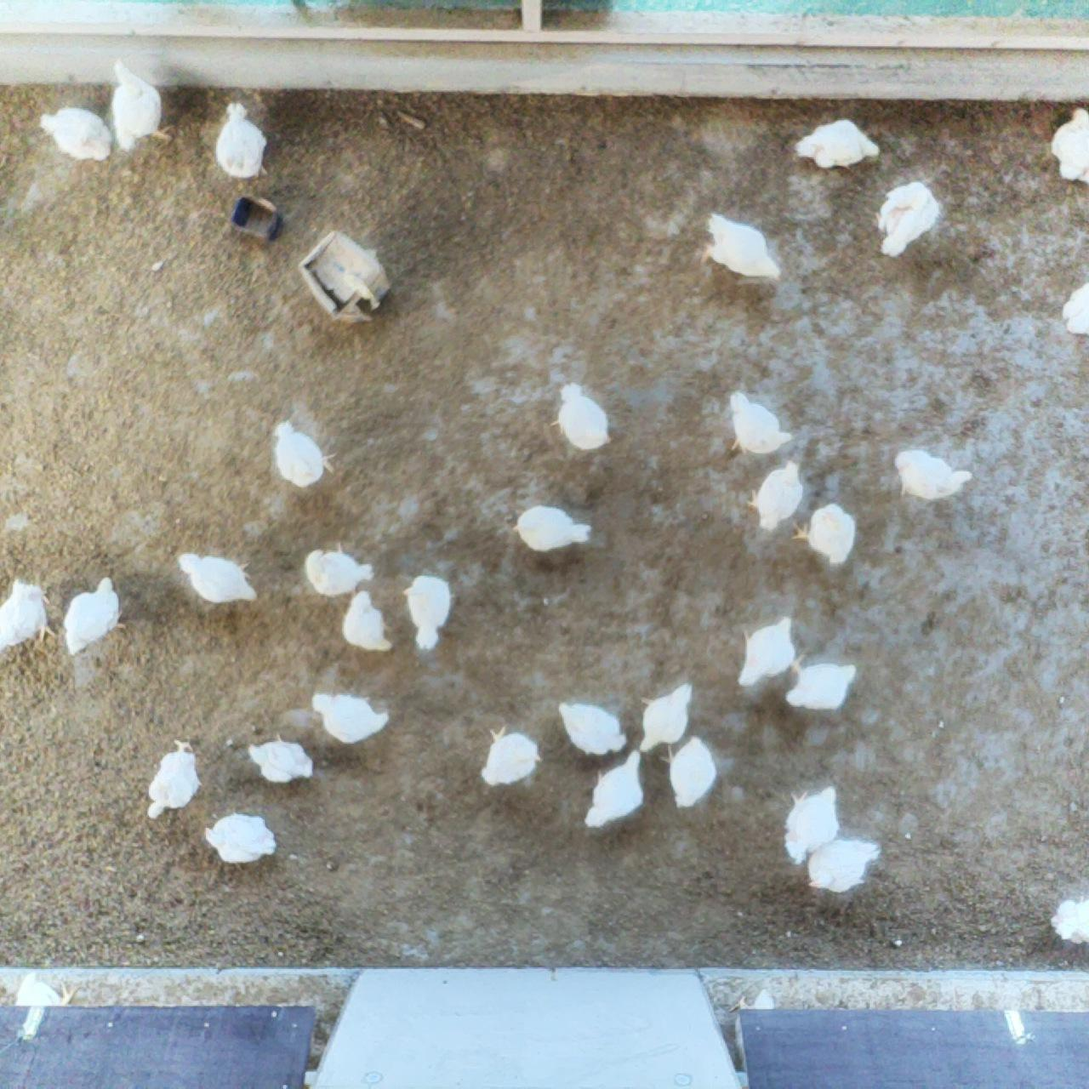chicken: (102, 53, 176, 155), (697, 207, 786, 289), (871, 177, 944, 261), (580, 745, 648, 834), (540, 377, 617, 454), (65, 571, 130, 661), (790, 113, 884, 175), (175, 547, 269, 609), (269, 415, 340, 497), (137, 733, 203, 820), (731, 611, 801, 692), (780, 780, 844, 868), (742, 457, 813, 536), (889, 442, 978, 504), (721, 386, 796, 459), (211, 97, 270, 186), (638, 677, 700, 760), (659, 732, 721, 815), (471, 721, 546, 789), (553, 695, 630, 761), (781, 653, 864, 714), (790, 499, 862, 569), (307, 688, 392, 747), (399, 571, 459, 654), (36, 104, 115, 167), (509, 499, 596, 556), (239, 728, 318, 790), (804, 838, 885, 898), (200, 812, 285, 869), (0, 575, 60, 653), (303, 538, 375, 599), (341, 588, 400, 657), (1044, 103, 1089, 188), (1046, 891, 1089, 948), (1058, 280, 1089, 342)
